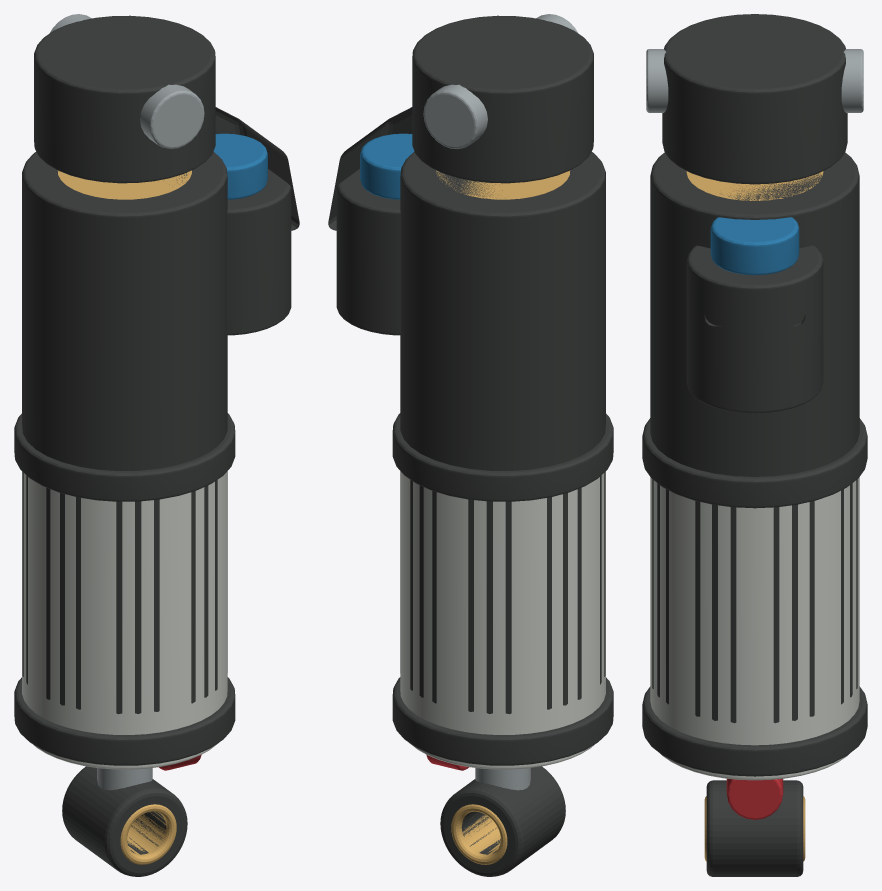
The model's file is fox-float-x2-factory-my26--8d040a9f.glb.
3 views of the same model, side by side, from view 1: azimuth 30°, elevation 25°; view 2: azimuth 150°, elevation 25°; view 3: azimuth 270°, elevation 25° (orthographic).
Visible parts, largest first — view 1: fox-float-x2-factory-my26--8d040a9f__link, fox-float-x2-factory-my26--8d040a9f__frame, fox-float-x2-factory-my26--8d040a9f__stanchions, fox-float-x2-factory-my26--8d040a9f__bolts, fox-float-x2-factory-my26--8d040a9f__adjuster; view 2: fox-float-x2-factory-my26--8d040a9f__link, fox-float-x2-factory-my26--8d040a9f__frame, fox-float-x2-factory-my26--8d040a9f__bolts, fox-float-x2-factory-my26--8d040a9f__stanchions, fox-float-x2-factory-my26--8d040a9f__adjuster; view 3: fox-float-x2-factory-my26--8d040a9f__link, fox-float-x2-factory-my26--8d040a9f__frame, fox-float-x2-factory-my26--8d040a9f__adjuster, fox-float-x2-factory-my26--8d040a9f__bolts, fox-float-x2-factory-my26--8d040a9f__stanchions, fox-float-x2-factory-my26--8d040a9f__rebound.
Part boxes in pixels (left/top/right/bottom): fox-float-x2-factory-my26--8d040a9f__link: left=14, top=15, right=299, bottom=876; fox-float-x2-factory-my26--8d040a9f__frame: left=22, top=471, right=227, bottom=769; fox-float-x2-factory-my26--8d040a9f__stanchions: left=57, top=170, right=191, bottom=864; fox-float-x2-factory-my26--8d040a9f__bolts: left=49, top=14, right=204, bottom=790; fox-float-x2-factory-my26--8d040a9f__adjuster: left=213, top=133, right=267, bottom=199; fox-float-x2-factory-my26--8d040a9f__link: left=328, top=15, right=613, bottom=876; fox-float-x2-factory-my26--8d040a9f__frame: left=400, top=471, right=605, bottom=769; fox-float-x2-factory-my26--8d040a9f__bolts: left=423, top=14, right=578, bottom=790; fox-float-x2-factory-my26--8d040a9f__stanchions: left=436, top=170, right=570, bottom=864; fox-float-x2-factory-my26--8d040a9f__adjuster: left=360, top=133, right=414, bottom=199; fox-float-x2-factory-my26--8d040a9f__link: left=642, top=14, right=867, bottom=876; fox-float-x2-factory-my26--8d040a9f__frame: left=650, top=477, right=859, bottom=780; fox-float-x2-factory-my26--8d040a9f__adjuster: left=710, top=217, right=799, bottom=275; fox-float-x2-factory-my26--8d040a9f__bolts: left=646, top=49, right=863, bottom=780; fox-float-x2-factory-my26--8d040a9f__stanchions: left=686, top=171, right=823, bottom=861; fox-float-x2-factory-my26--8d040a9f__rebound: left=726, top=778, right=783, bottom=819.
Bounding box in the file's own units: 0.074 × 0.225 × 0.056.
